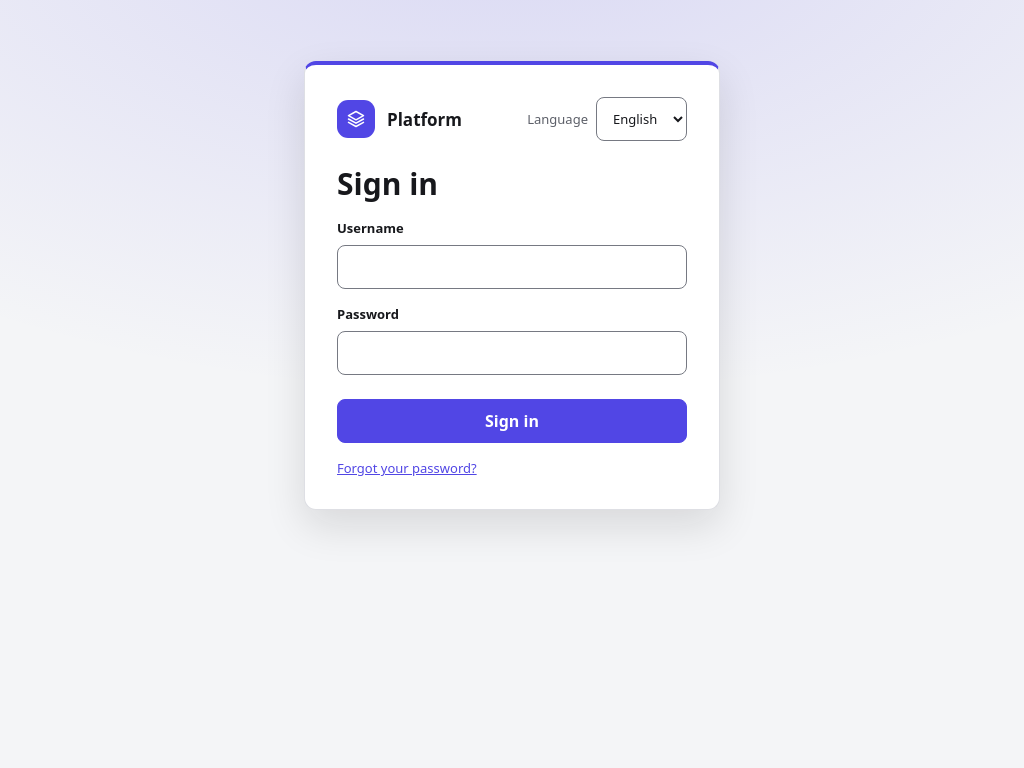
Test case: signing in › a malformed request reads the same as a wrong password
The width and height of the screenshot is (1024, 768).
Type "x" into the field labelled "Username" at (512, 267), box 337,245 -> 687,289
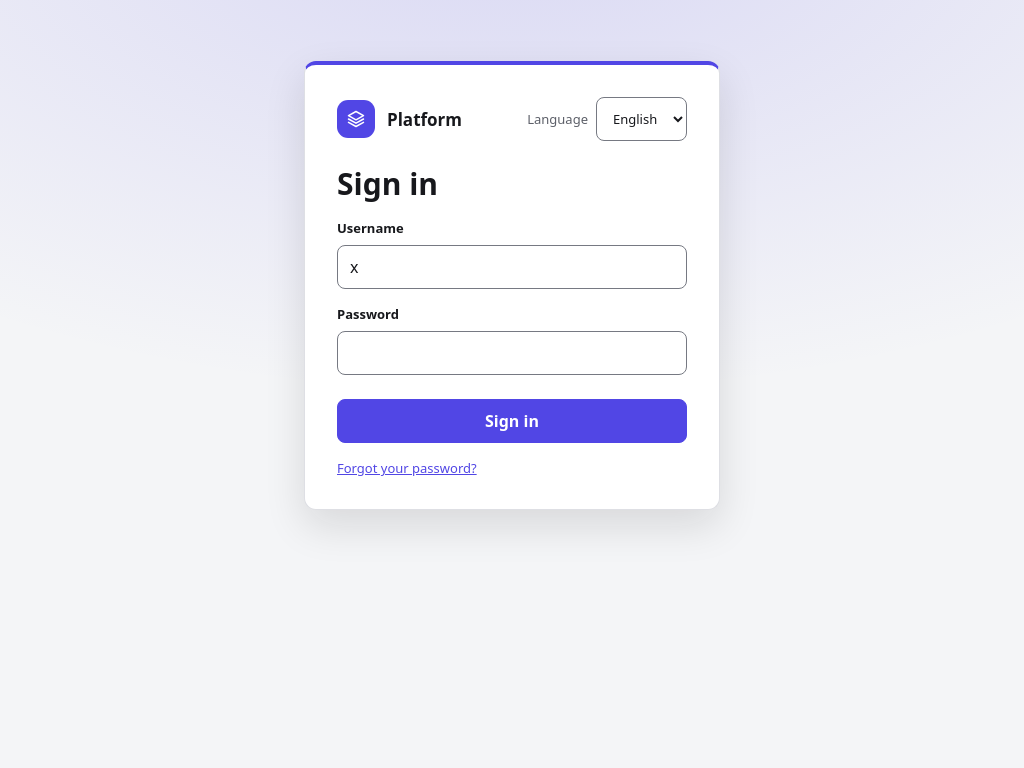
Type "y" into the password field labelled "Password" at (512, 353), box 337,331 -> 687,375
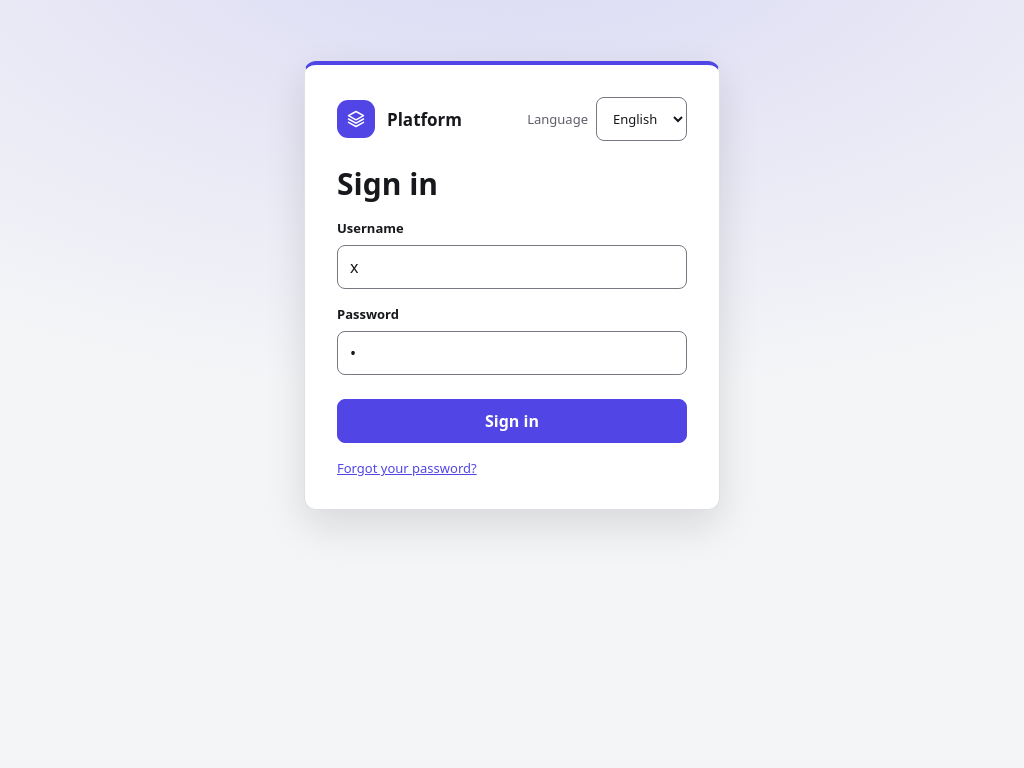
Click the button "Sign in" at (512, 421), box 337,399 -> 687,443
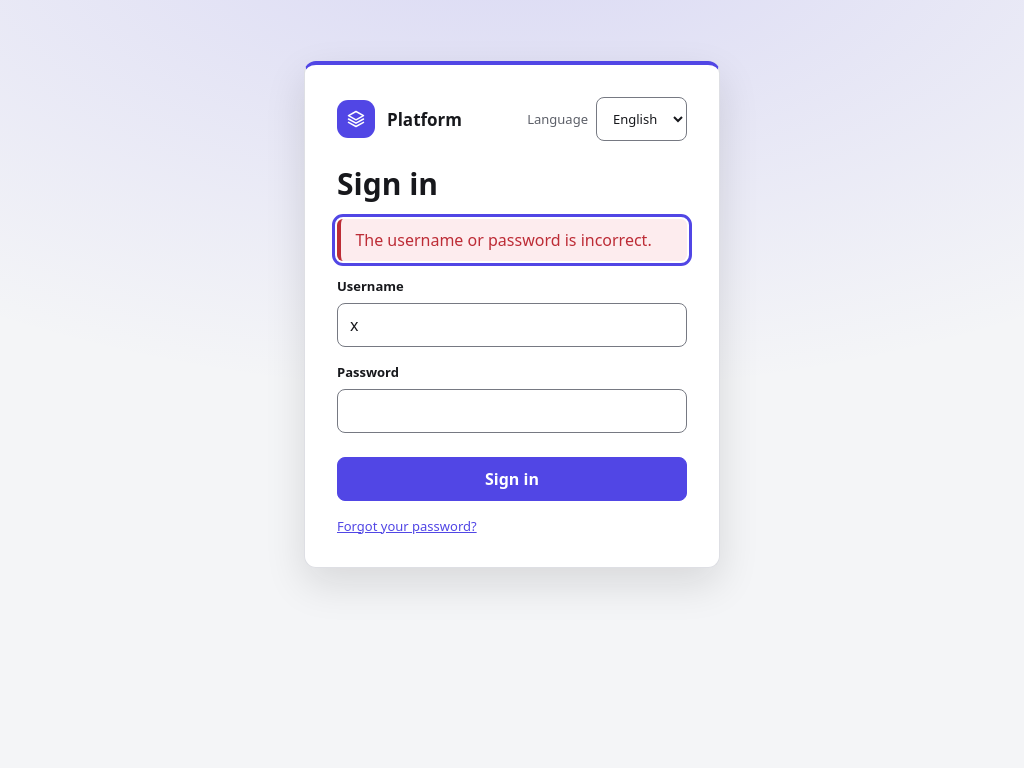
Expected: the message reads "The username or password is incorrect.", 355,229 -> 652,251
